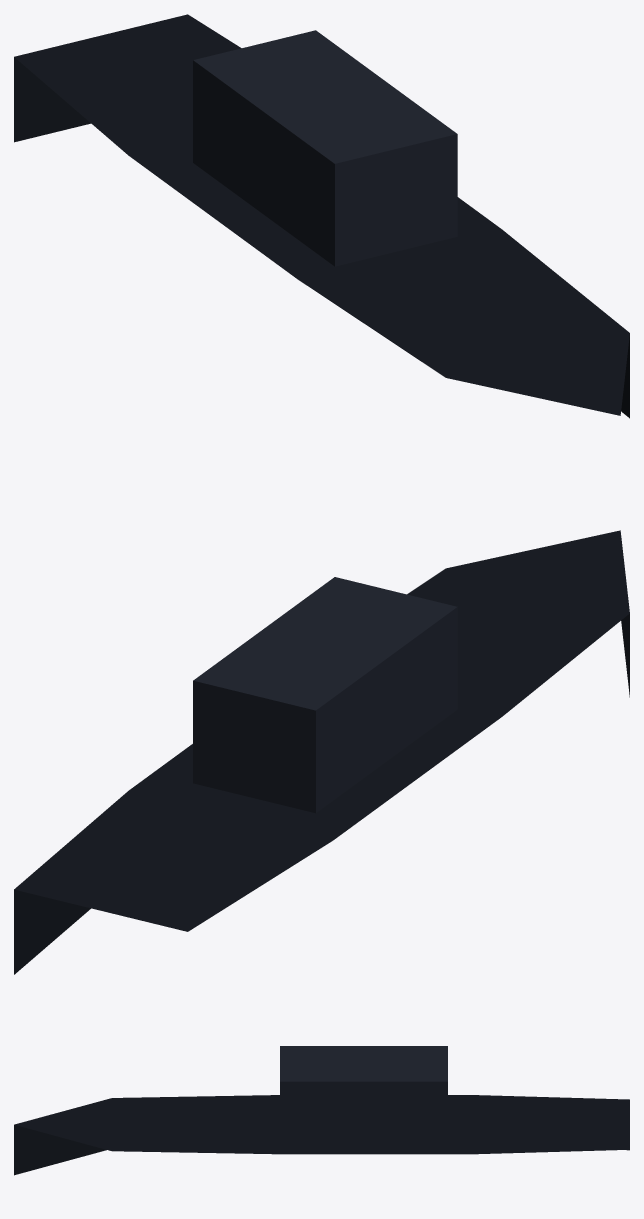
Rendered from escort_interceptor.glb.
The picture shows the model from 3 angles, top to bottom: view 1: azimuth 30°, elevation 25°; view 2: azimuth 150°, elevation 25°; view 3: azimuth 270°, elevation 25°; orthographic projection. The views are drawn at different scales.
Parts seen in each view (by area): view 1: escort_interceptor_hull; view 2: escort_interceptor_hull; view 3: escort_interceptor_hull.
Boxes of the visible parts, x1,y1,x2,y2 form: escort_interceptor_hull: [14, 14, 629, 418]; escort_interceptor_hull: [14, 530, 629, 974]; escort_interceptor_hull: [14, 1046, 629, 1175].
Size of the model in its own units: 5 by 4.4 by 22.
Materials: 1 (1 with a texture image).
